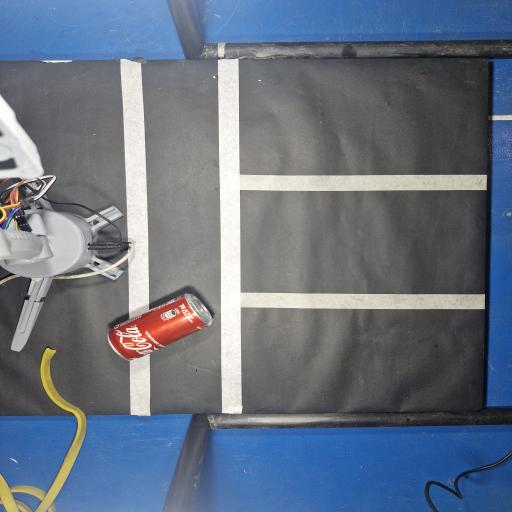lata: (108, 294, 212, 360)
